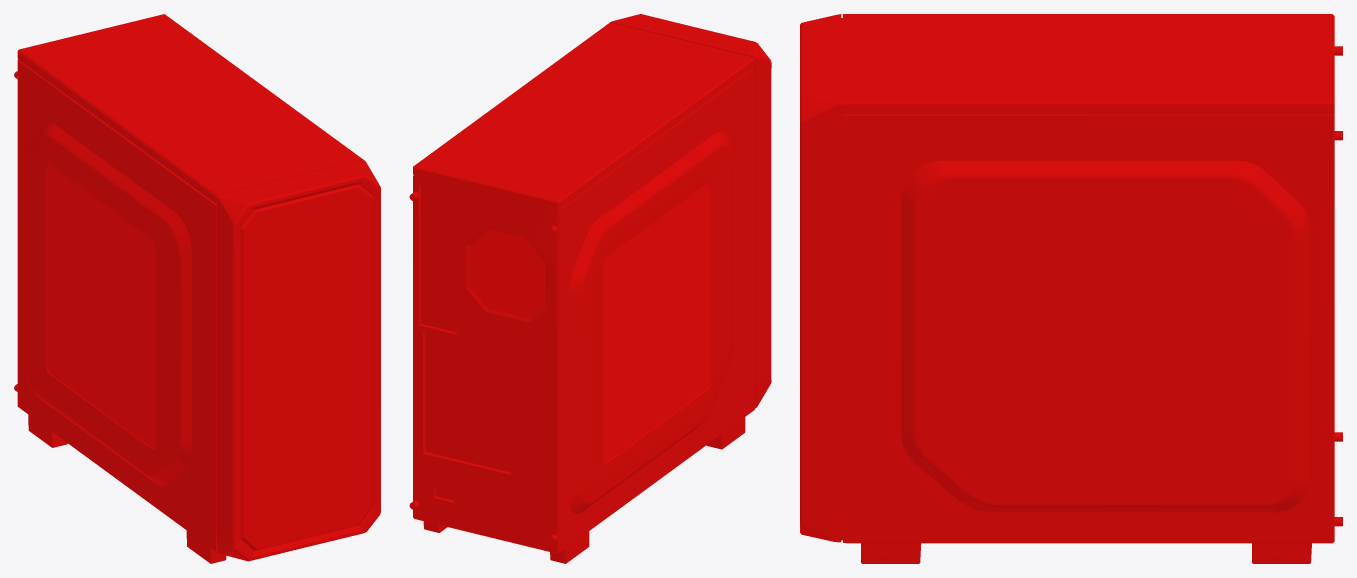
File: SM_PC_case_01_.glb
3 renders of one model, left to right at view 1: azimuth 30°, elevation 25°; view 2: azimuth 150°, elevation 25°; view 3: azimuth 270°, elevation 25°, orthographic. The views are drawn at different scales.
Parts seen in each view (by area): view 1: SM_PC_case_01__LOD0; view 2: SM_PC_case_01__LOD0; view 3: SM_PC_case_01__LOD0.
Boxes of the visible parts, x1,y1,x2,y2 form: SM_PC_case_01__LOD0: [14, 14, 380, 563]; SM_PC_case_01__LOD0: [409, 14, 771, 563]; SM_PC_case_01__LOD0: [800, 14, 1342, 563].
Size of the model in its own units: 0.1998 by 0.435 by 0.4621.
